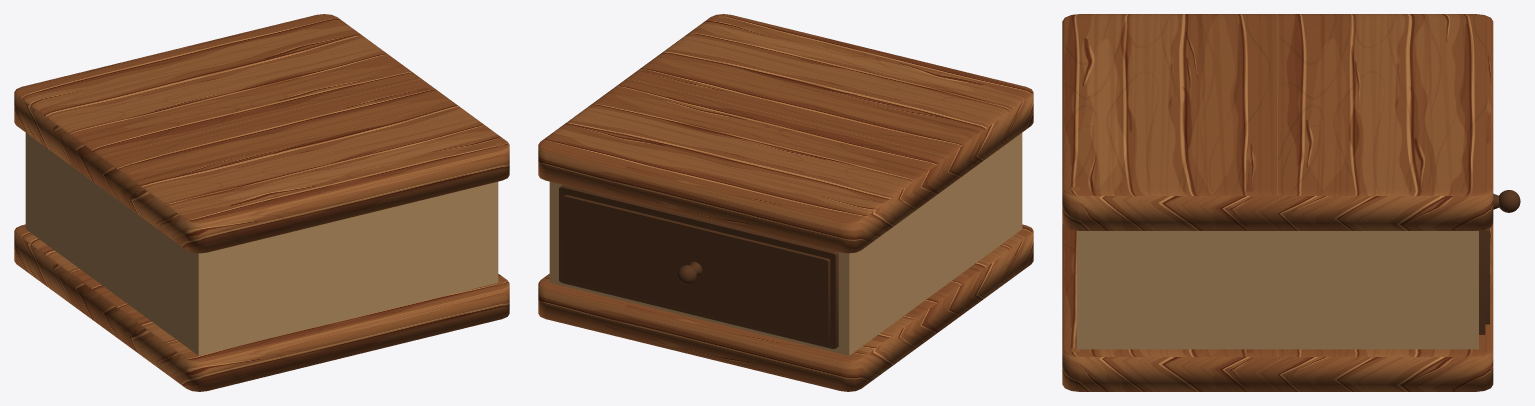
File: KITCHEN CABINET.fbx
3 renders of one model, left to right at view 1: azimuth 30°, elevation 25°; view 2: azimuth 150°, elevation 25°; view 3: azimuth 270°, elevation 25°, orthographic. The views are drawn at different scales.
Parts seen in each view (by area): view 1: Table.002, Table, Table.001; view 2: Table.002, Handle.002, Table, Table.001; view 3: Table.002, Table, Table.001, Handle.002.
Part boxes in pixels (<box>): Table.002: <box>14,14,509,253</box>; Table: <box>25,133,498,355</box>; Table.001: <box>14,224,509,391</box>; Table.002: <box>538,14,1033,253</box>; Handle.002: <box>559,185,838,348</box>; Table: <box>549,133,1022,355</box>; Table.001: <box>538,224,1033,391</box>; Table.002: <box>1062,14,1493,230</box>; Table: <box>1077,230,1478,349</box>; Table.001: <box>1062,224,1493,391</box>; Handle.002: <box>1479,190,1520,334</box>.
Size of the model in its own units: 157 by 80.27 by 167.
4 materials, 1 textured.
